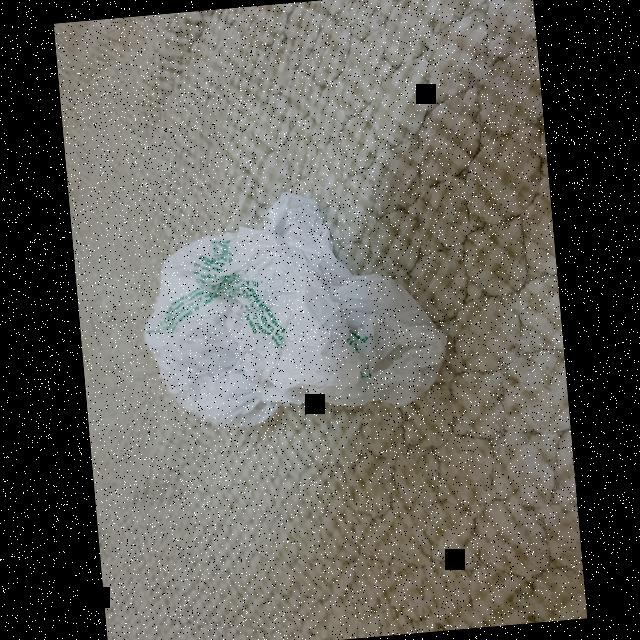plastic_bag: (130, 164, 458, 453)
